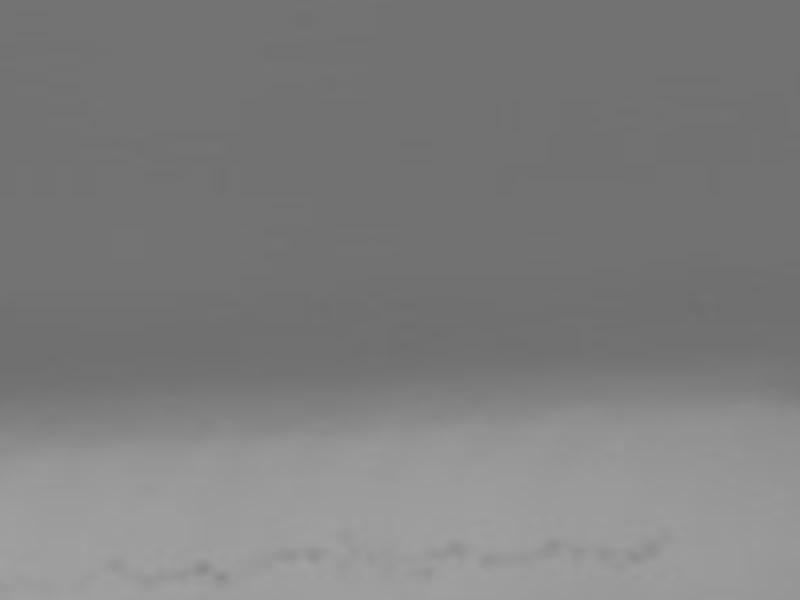defect: (439, 538, 467, 562), (476, 551, 506, 568), (637, 541, 660, 563), (270, 548, 298, 565), (140, 571, 174, 585), (536, 537, 560, 556), (302, 547, 329, 563), (187, 561, 209, 577), (596, 544, 615, 561), (565, 544, 582, 560), (627, 548, 641, 562), (416, 568, 432, 580), (214, 573, 228, 585)
